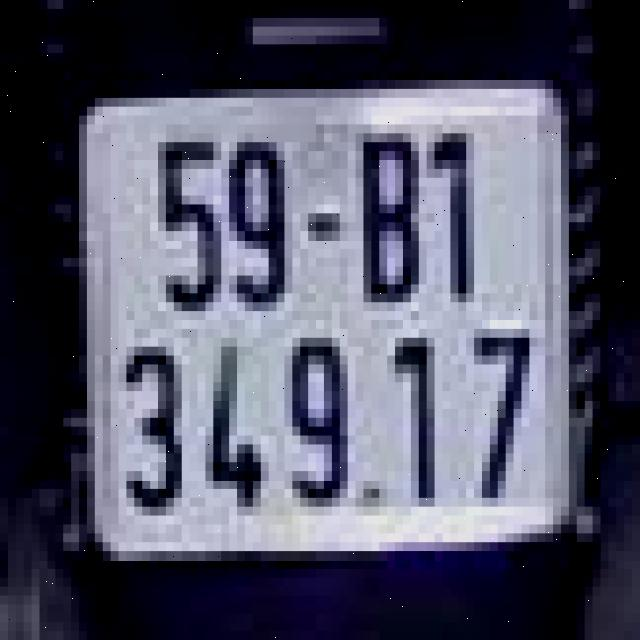1: (384, 325, 454, 511), (423, 111, 486, 316)
3: (110, 333, 190, 529)
4: (194, 324, 280, 529)
5: (146, 133, 233, 320)
7: (454, 320, 542, 516)
9: (272, 325, 360, 511), (229, 137, 300, 316)
B: (352, 115, 431, 329)
